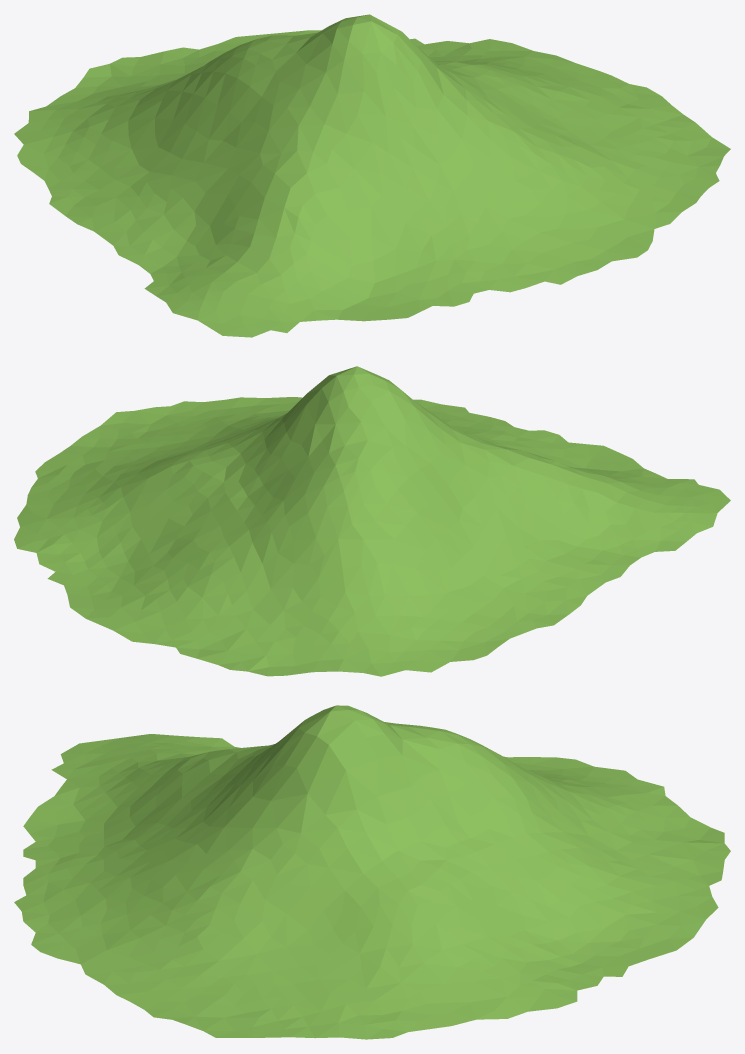
Rendered from MT_Mountain_L_a_23_LOD.fbx.
The picture shows the model from 3 angles, top to bottom: view 1: azimuth 30°, elevation 25°; view 2: azimuth 150°, elevation 25°; view 3: azimuth 270°, elevation 25°; orthographic projection. The views are drawn at different scales.
Parts seen in each view (by area): view 1: MT_Mountain_L_a_23_LOD0; view 2: MT_Mountain_L_a_23_LOD0; view 3: MT_Mountain_L_a_23_LOD0.
Part boxes in pixels (x1,y1,x2,y2): MT_Mountain_L_a_23_LOD0: (14, 14, 730, 337); MT_Mountain_L_a_23_LOD0: (14, 366, 730, 676); MT_Mountain_L_a_23_LOD0: (14, 705, 730, 1039).
Size of what is drawn, in the model's own units: 9030 by 2387 by 9023.
